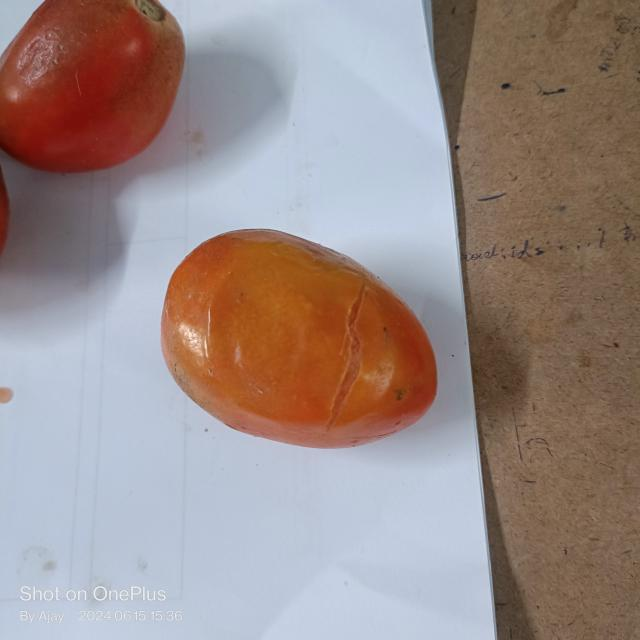Botrytis: (338, 314, 364, 357), (391, 380, 414, 407)
